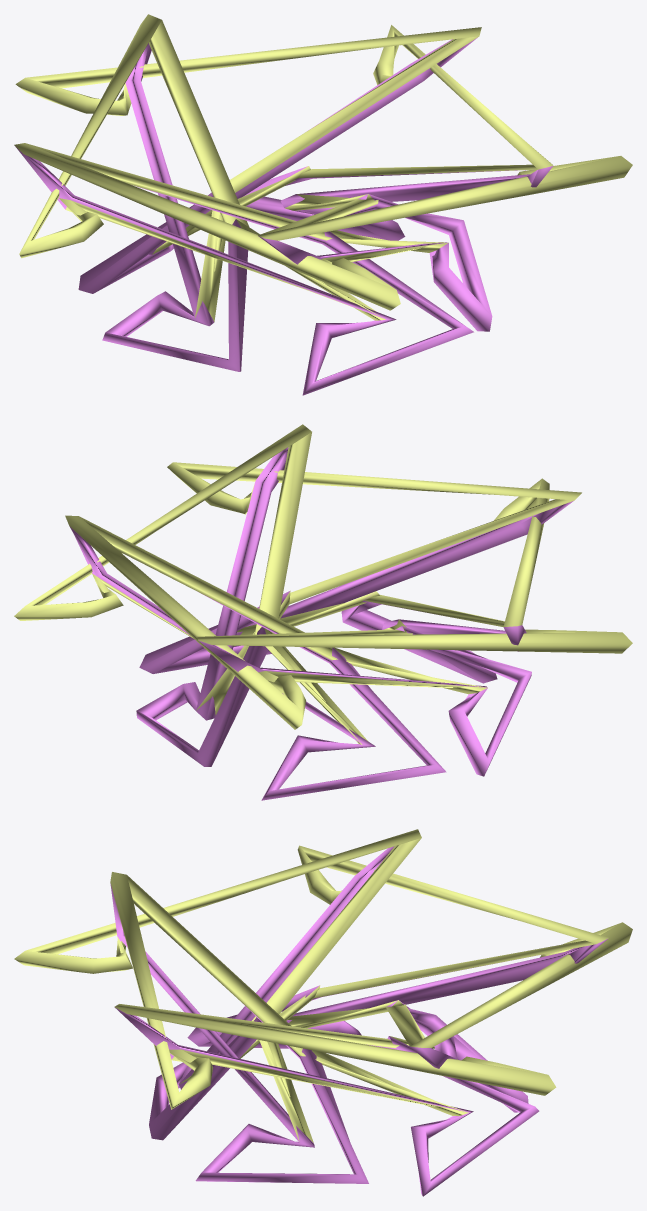
The model's file is MapG.glb.
The picture shows the model from 3 angles, top to bottom: view 1: azimuth 30°, elevation 25°; view 2: azimuth 150°, elevation 25°; view 3: azimuth 270°, elevation 25°; orthographic projection. The views are drawn at different scales.
Visible parts, largest first — view 1: RegularMap_G; view 2: RegularMap_G; view 3: RegularMap_G.
Part boxes in pixels (x1,y1,x2,y2): RegularMap_G: [14, 14, 632, 395]; RegularMap_G: [14, 424, 632, 800]; RegularMap_G: [14, 829, 632, 1196].
Size of the model in its own units: 7.14 by 2.43 by 7.23.
